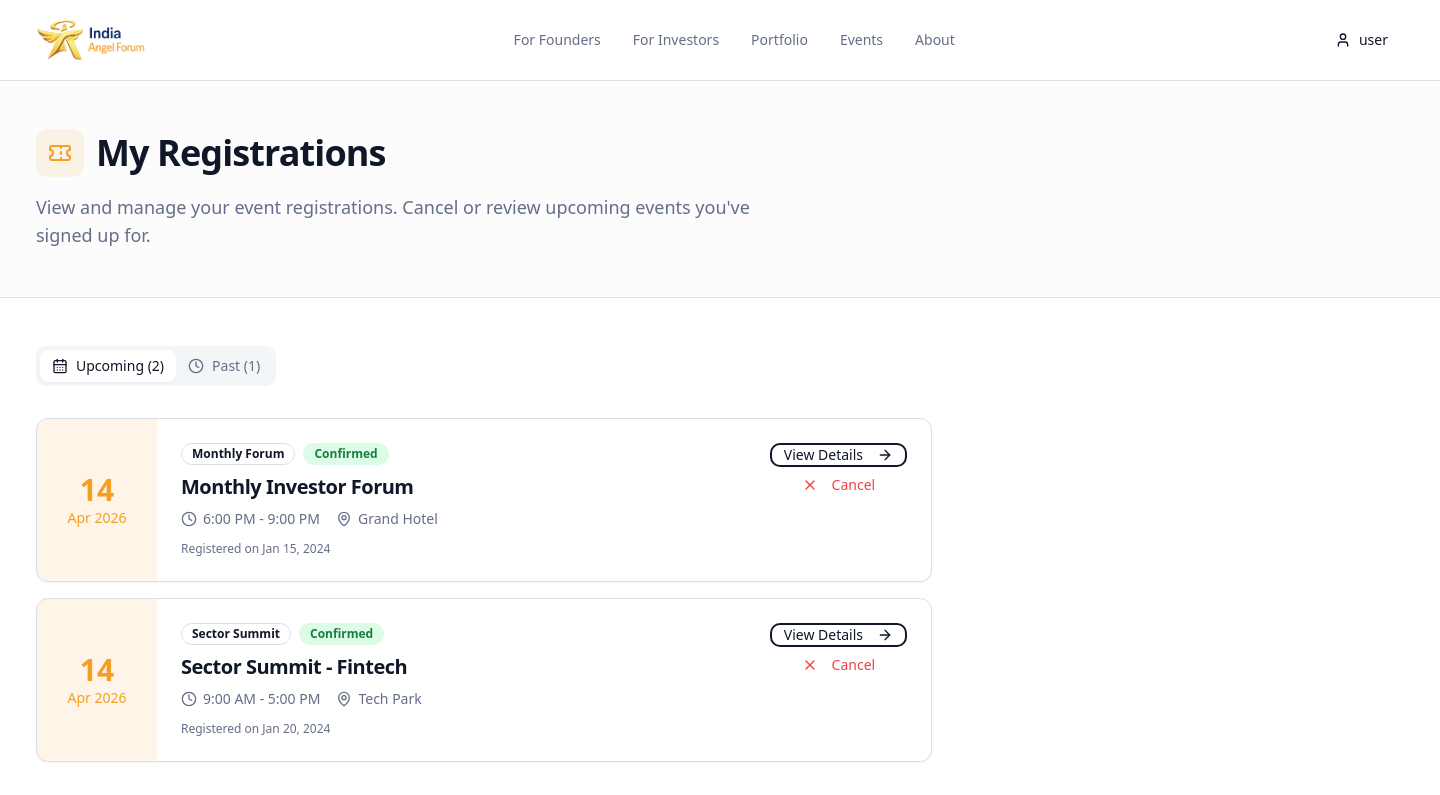
Scenario: MyRegistrations Page › Tabs Navigation › should switch to past registrations when clicking Past tab
Expected: the link "Monthly Investor Forum" is shown, [181,473,414,500]
Click the tab "Past (1)": (224, 366) [176,350,272,382]
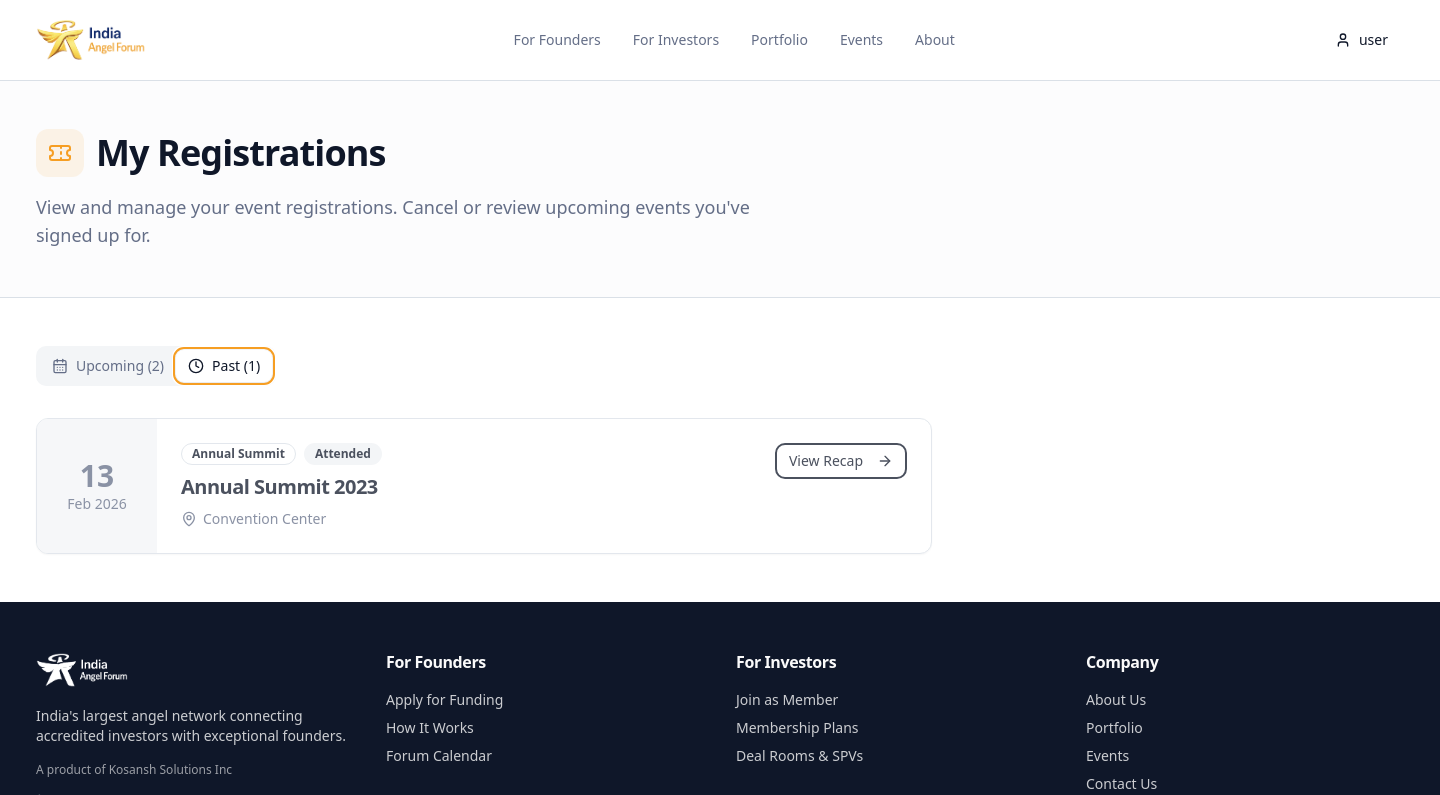
Expected: the heading "Annual Summit 2023" is shown, [181,473,382,501]
